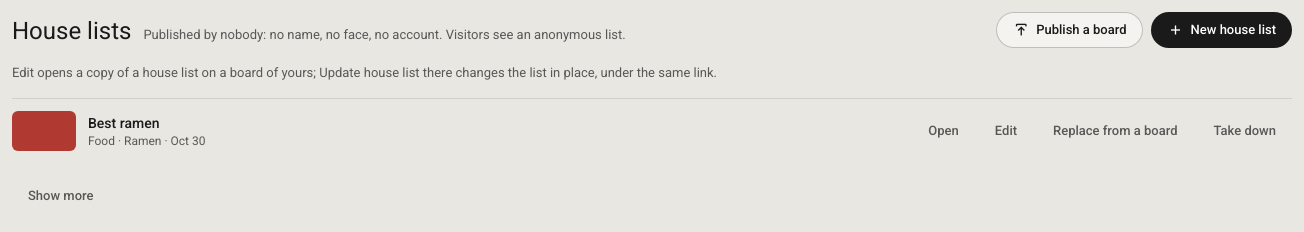
Test: HousePane › lists the house's lists with their section and topic, a page at a time
Expected: the heading "House lists" is shown, [12, 16, 131, 47]
Expected: the text "Published by nobody: no name, no face, no account. Visitors see an anonymous list." is shown, [143, 27, 626, 42]
Click the button "Show more" at {"x": 61, "y": 196}, box [12, 178, 1292, 214]
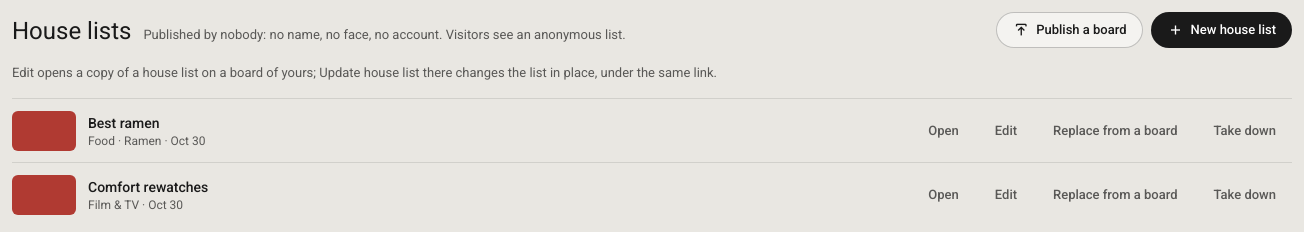
Expected: the text "Comfort rewatches" is shown, [88, 178, 208, 194]
Expected: the button "Show more" is gone
